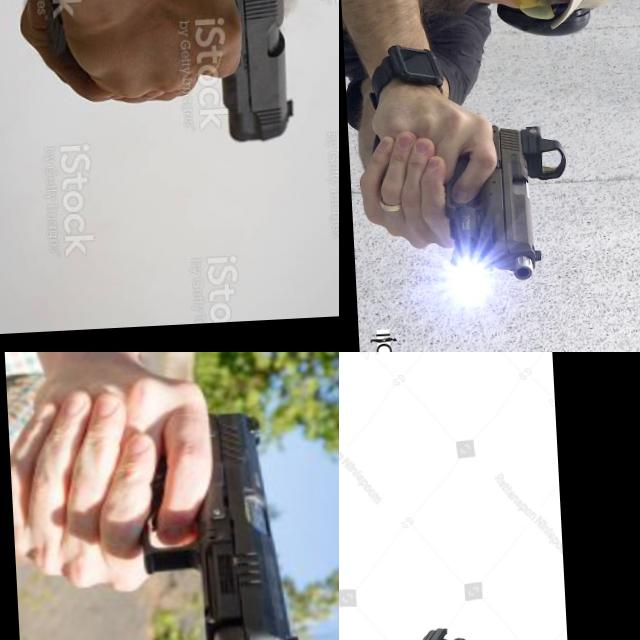handgun: (129, 407, 304, 640), (439, 121, 573, 285), (208, 0, 308, 150)
